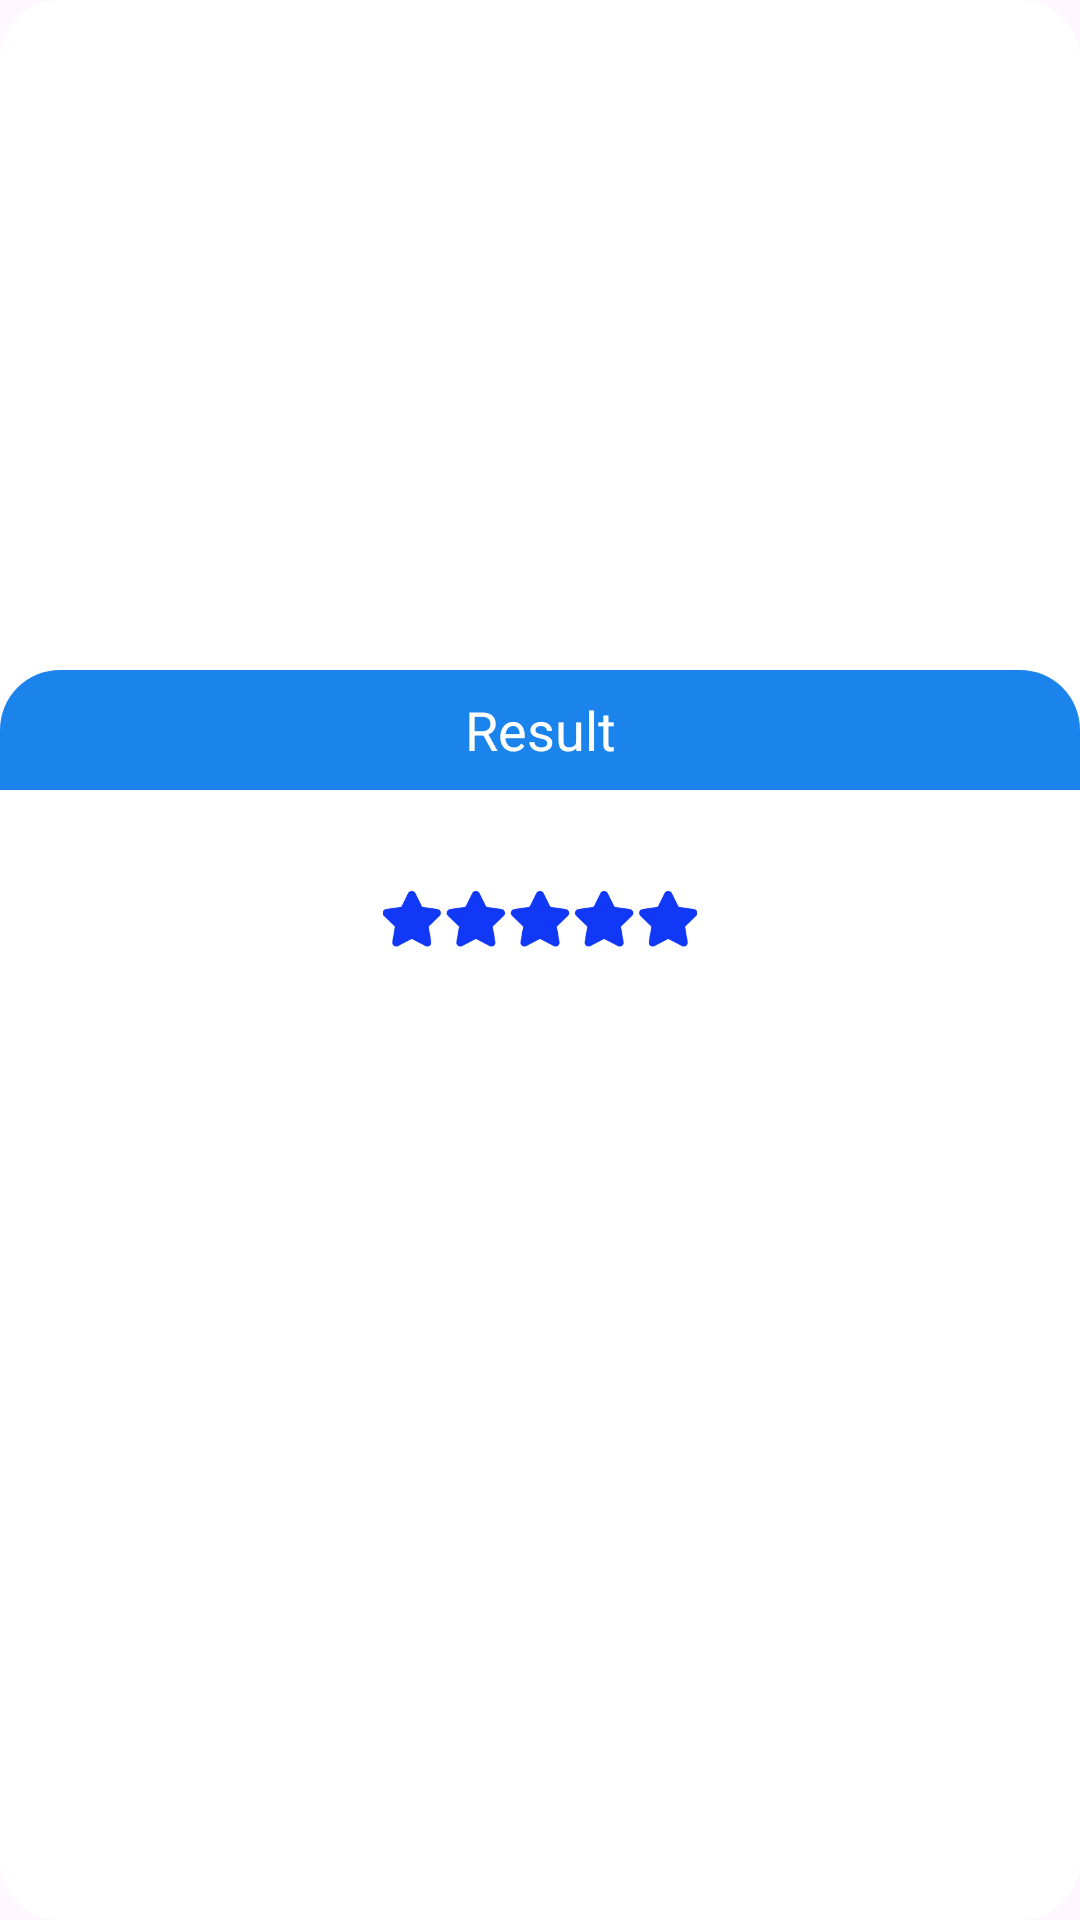

Screen size 1080px x 1920px. Icon name, then its center in pixels as [x,y]:
star: [540,919]
